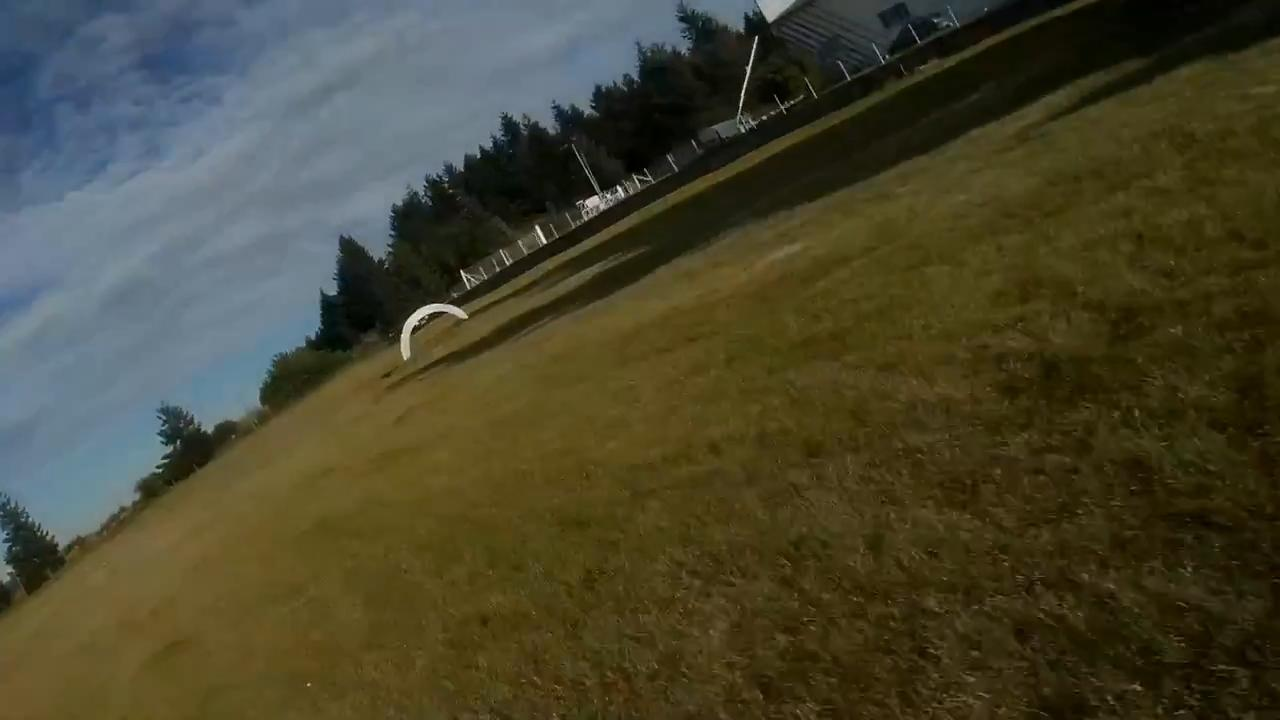gate: (397, 303, 466, 360)
